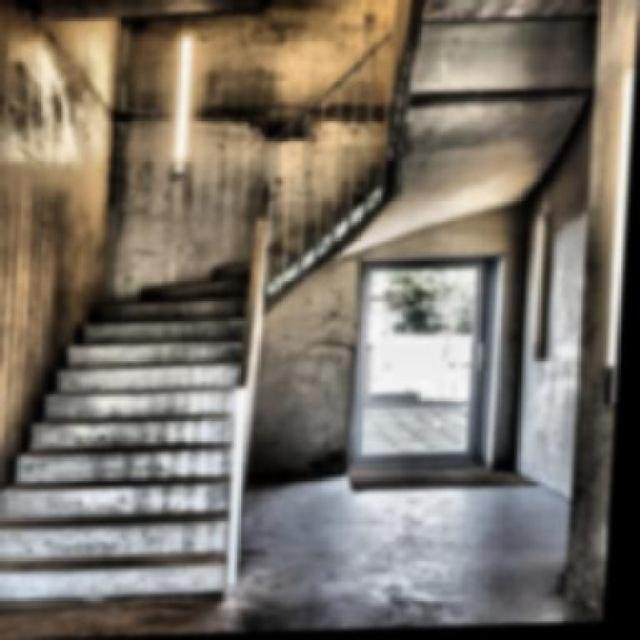stair: (0, 213, 268, 602)
